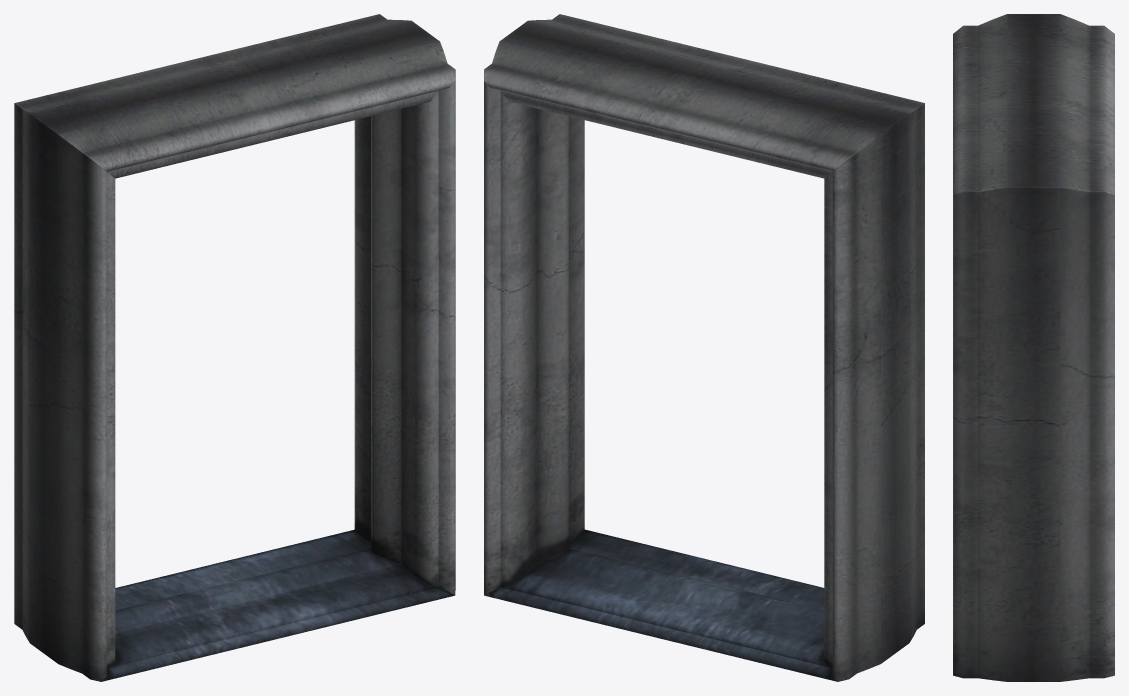
File: door_frame_blue.dae
3 views of the same model, side by side, from view 1: azimuth 30°, elevation 25°; view 2: azimuth 150°, elevation 25°; view 3: azimuth 270°, elevation 25° (orthographic). The views are drawn at different scales.
Visible parts, largest first — view 1: mansionbase_doorframe; view 2: mansionbase_doorframe; view 3: mansionbase_doorframe.
Part boxes in pixels (<box>): mansionbase_doorframe: <box>14,14,455,681</box>; mansionbase_doorframe: <box>484,14,924,681</box>; mansionbase_doorframe: <box>953,14,1114,681</box>.
Bounding box in the file's own units: 2.42 × 3.21 × 0.9526.
